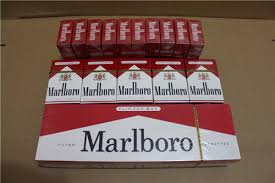marlboro: (117, 60, 152, 102), (188, 60, 223, 102), (152, 60, 186, 102), (82, 61, 116, 101), (47, 61, 79, 102)
